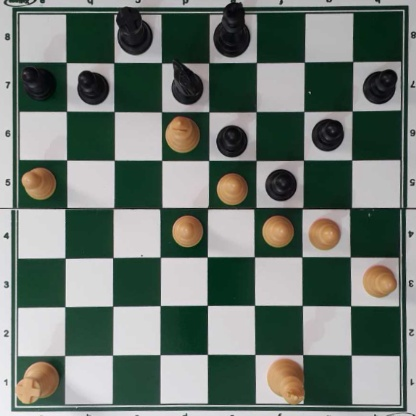black-king: (211, 1, 250, 57)
black-knight: (167, 58, 202, 103)
black-pawn: (17, 62, 56, 100), (361, 67, 398, 104), (213, 121, 247, 157), (76, 69, 109, 105), (311, 115, 344, 150), (265, 166, 297, 201)
black-rook: (113, 5, 153, 55)
white-bishop: (164, 113, 200, 154)
white-king: (265, 356, 304, 404)
white-pawn: (361, 262, 398, 299), (307, 215, 342, 251), (20, 166, 55, 200), (213, 172, 249, 205), (260, 213, 293, 248), (170, 214, 203, 246)
white-rook: (12, 361, 58, 403)
